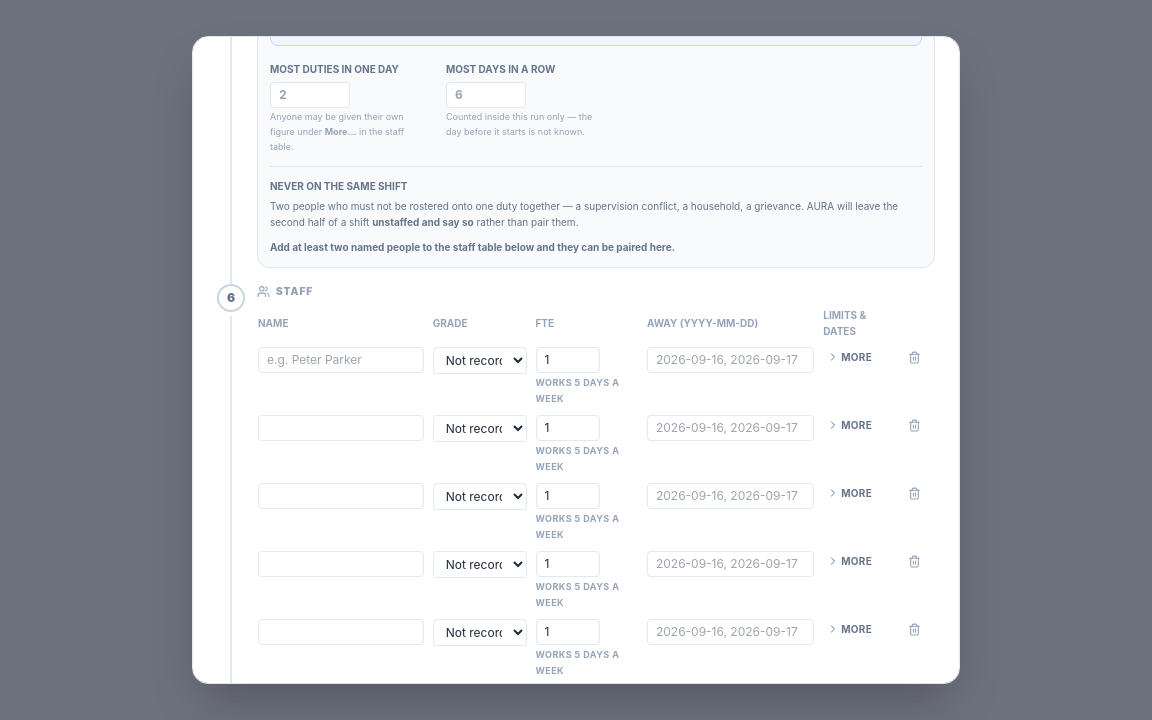
it: a monthly clinic, configured from the wizard › refuses a half-chosen pattern, names the task, and will not fold the row away
Earlier steps of the test are not shown.
Later steps or results of the test are not shown.
(page scrolled)
Type "Ada" into the field with placeholder "e.g. Peter Parker". click: (341, 360)
box: [258,347,424,373]
(page scrolled)
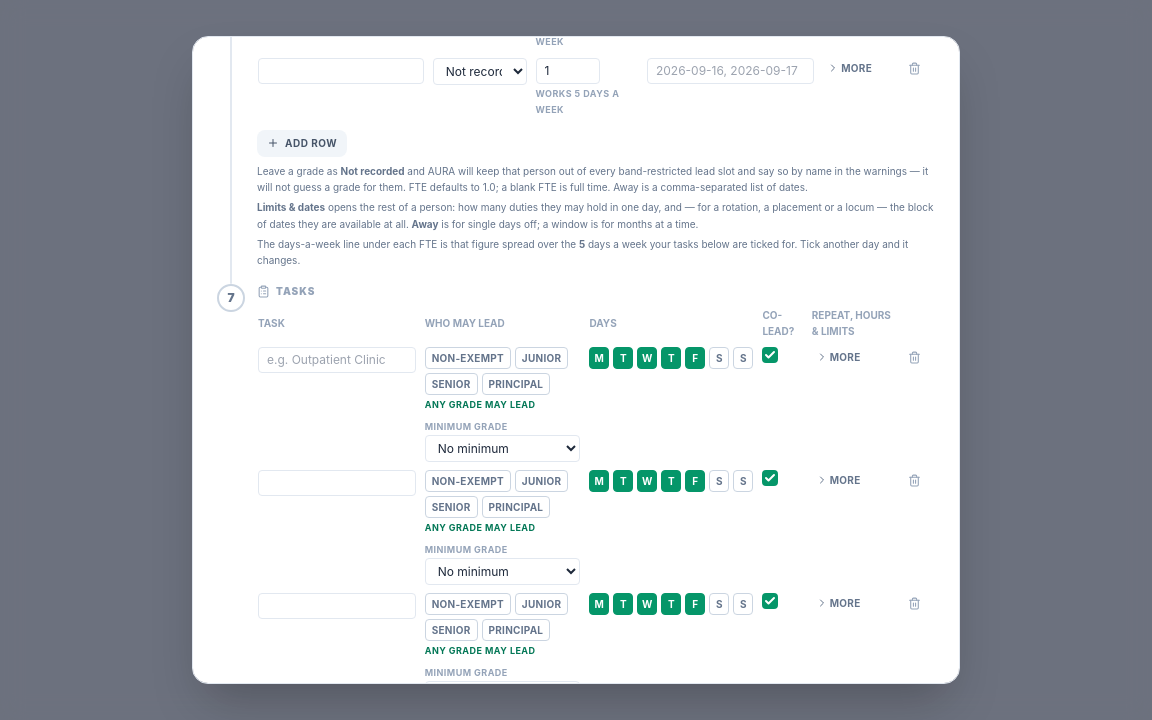
Type "ADHD Clinic" into the field with placeholder "e.g. Outpatient Clinic". click: (337, 360)
box: [258,347,416,373]
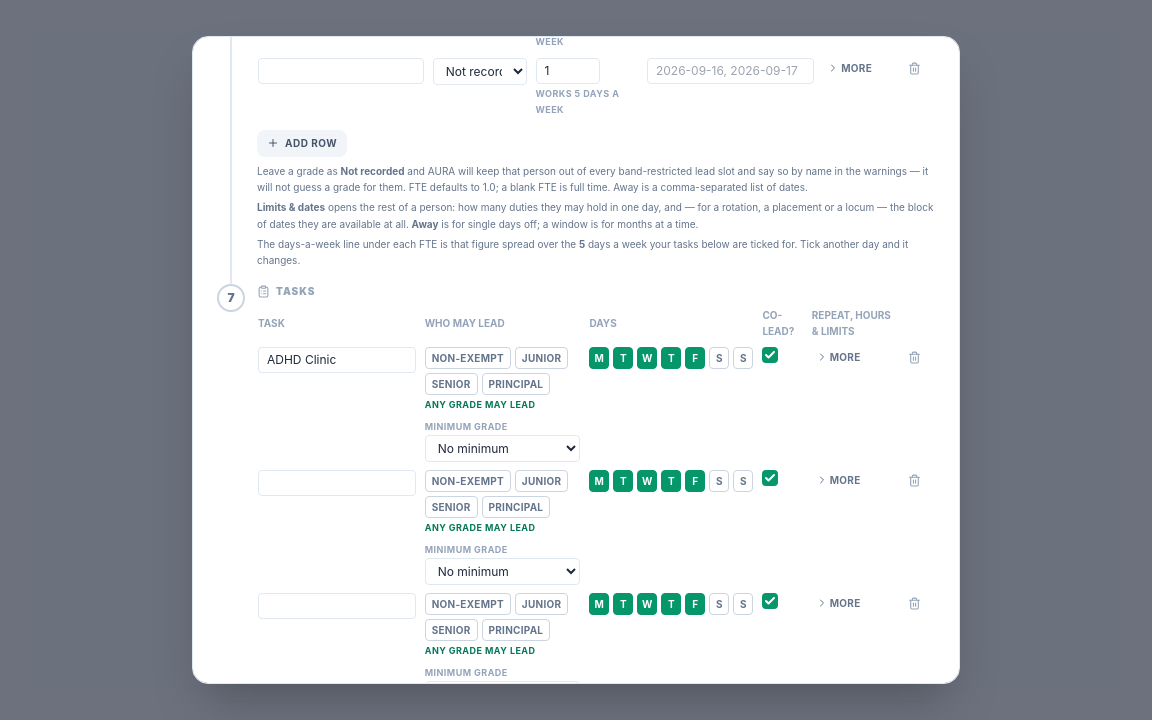
Click the 2nd button "More". click: (838, 357)
box: [812,347,864,367]
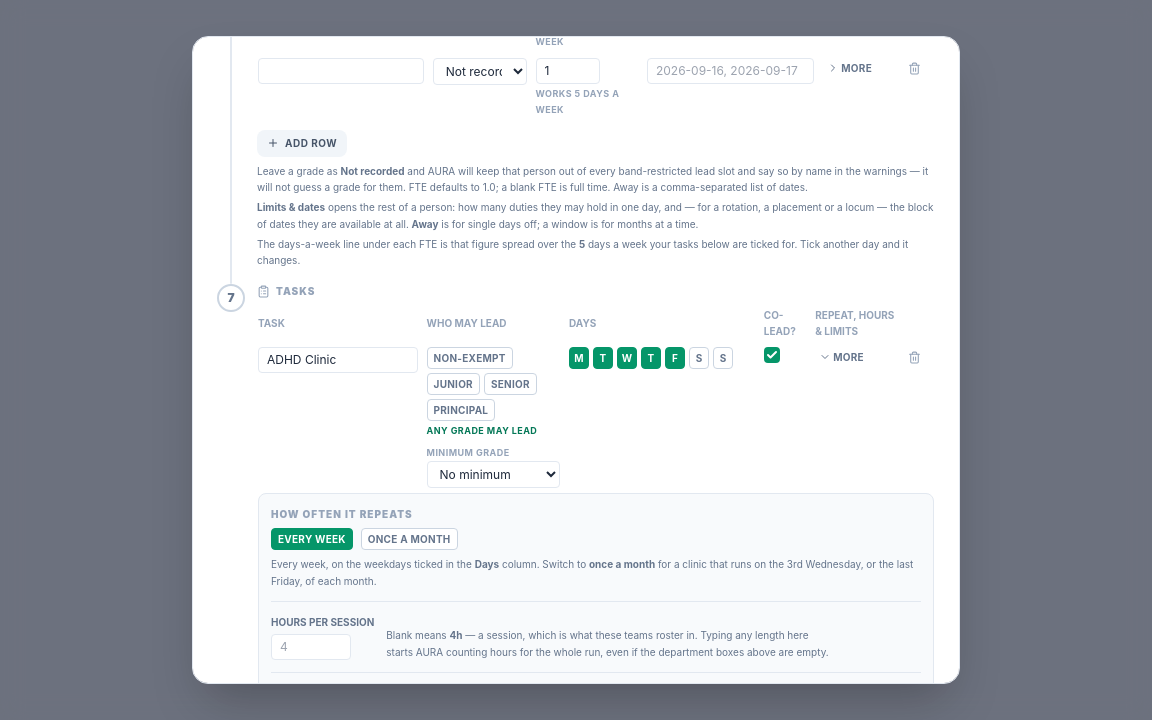
Click the button with aria-label "Task row 1: repeats once a month". click: (409, 539)
box: [361,528,458,550]
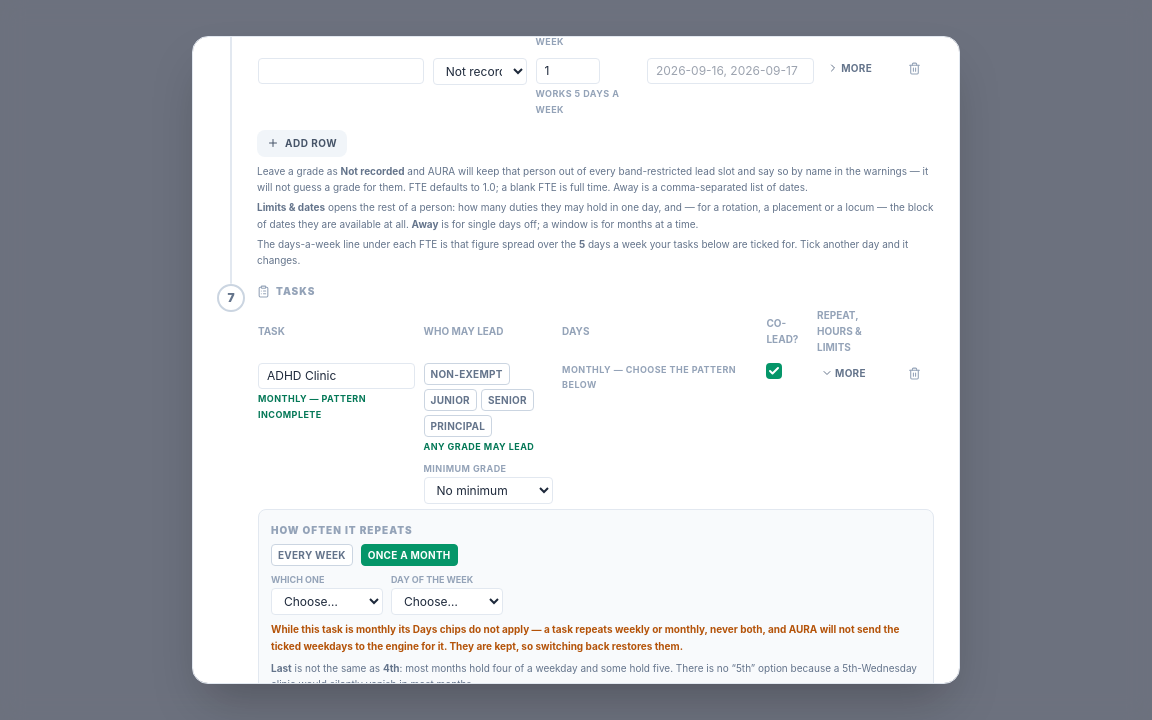
Select "3rd" in the dropdown labelled "Which one". click: (327, 602)
box: [271,588,383,615]
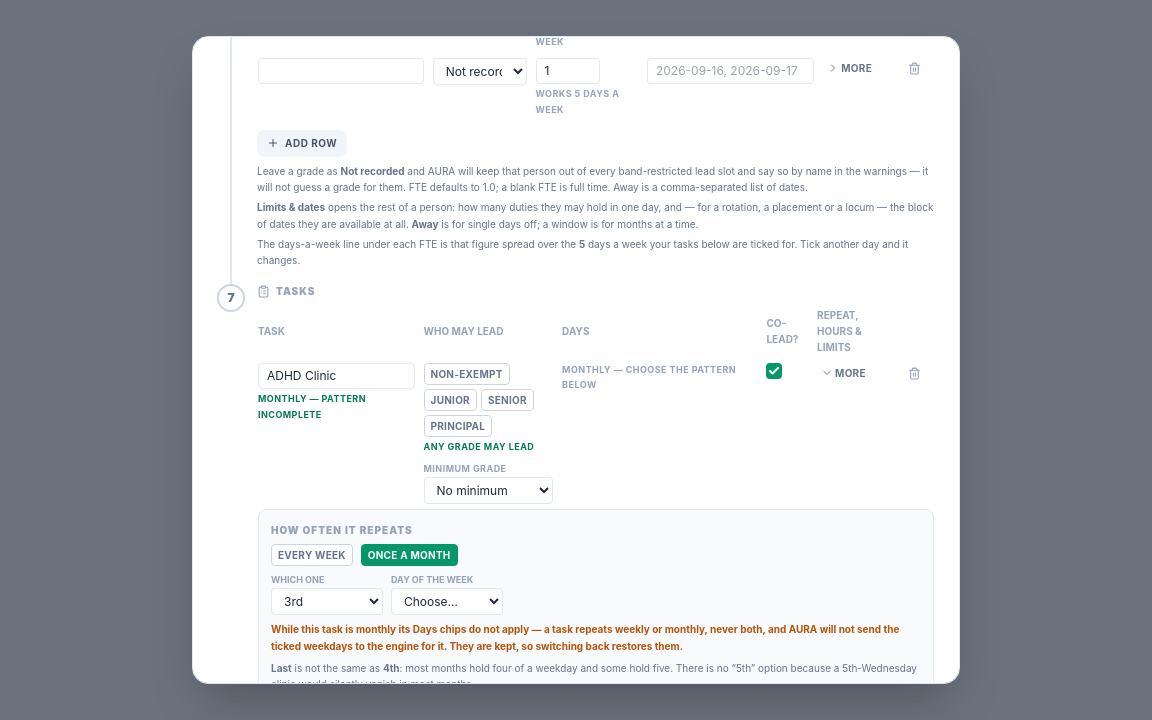
Click the button "More" next to "monthly — choose the pattern below". click: (843, 373)
box: [817,363,870,383]
Check: the dropdown named "Task row 1 monthly weekday" is shown, box [391,588,503,615]
